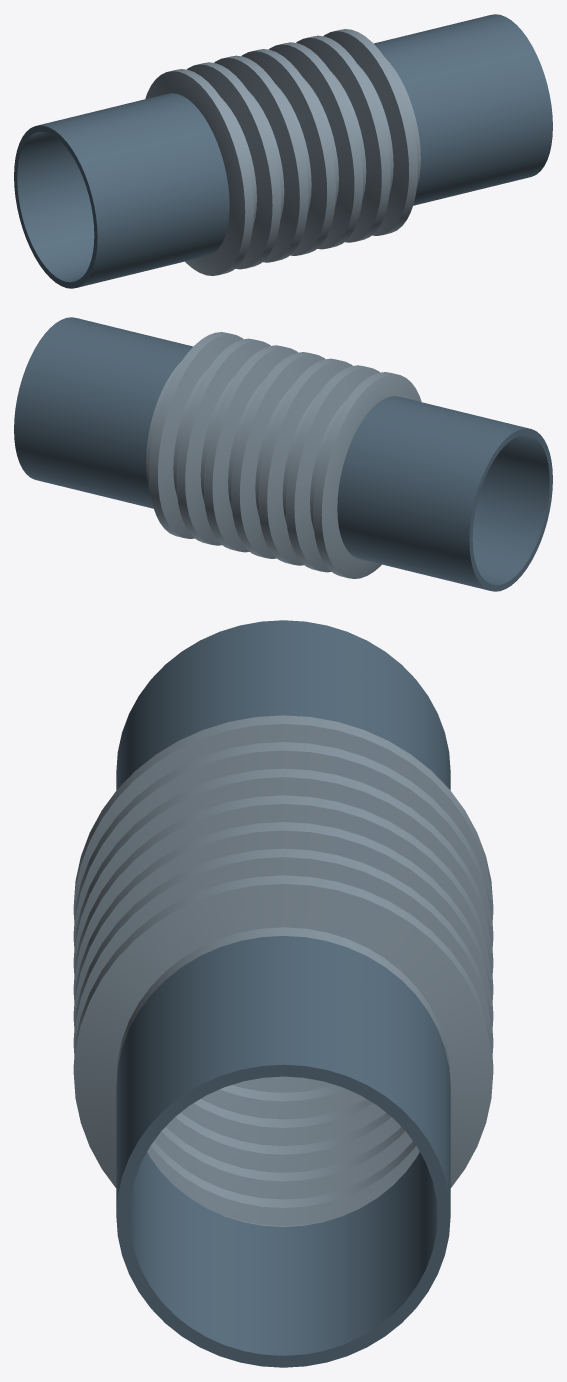
Rendered from silf-dn80-L280-D89.glb.
The picture shows the model from 3 angles, top to bottom: view 1: azimuth 30°, elevation 25°; view 2: azimuth 150°, elevation 25°; view 3: azimuth 270°, elevation 25°; orthographic projection. The views are drawn at different scales.
Parts seen in each view (by area): view 1: prokladka_silfon_1, patrubok_1, patrubok_2; view 2: prokladka_silfon_1, patrubok_1, patrubok_2; view 3: prokladka_silfon_1, patrubok_2, patrubok_1.
Part boxes in pixels (x1,y1,x2,y2): prokladka_silfon_1: [145, 29, 420, 275]; patrubok_1: [14, 93, 229, 288]; patrubok_2: [373, 14, 552, 205]; prokladka_silfon_1: [146, 332, 421, 578]; patrubok_1: [337, 396, 552, 591]; patrubok_2: [14, 317, 193, 508]; prokladka_silfon_1: [73, 715, 493, 1226]; patrubok_2: [116, 936, 450, 1367]; patrubok_1: [116, 620, 450, 790].
Size of the model in its own units: 280 by 112 by 112.
